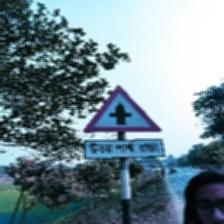Crossroad: (82, 85, 166, 161)
